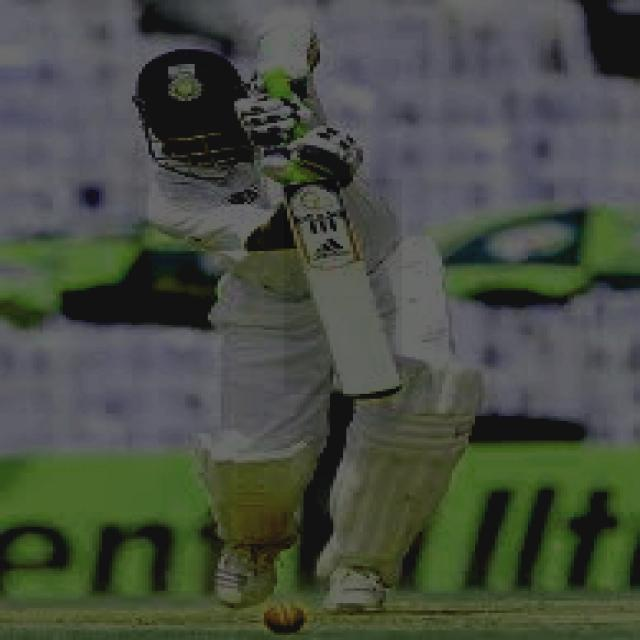bat: (279, 186, 408, 402)
toe: (335, 381, 411, 404)
